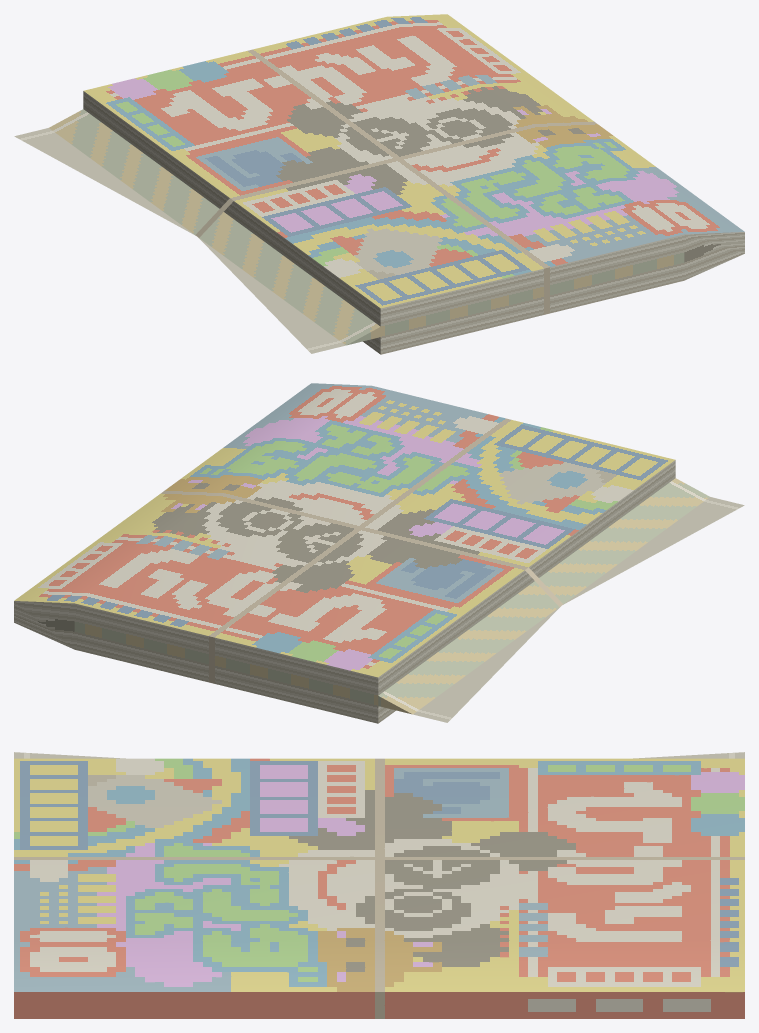
Rendered from 04ba_Magazine.glb.
3 renders of one model, top to bottom at view 1: azimuth 30°, elevation 25°; view 2: azimuth 150°, elevation 25°; view 3: azimuth 270°, elevation 25°, orthographic. The views are drawn at different scales.
Visible parts, largest first — view 1: part_0; view 2: part_0; view 3: part_0.
Boxes of the visible parts, x1,y1,x2,y2 form: part_0: (14, 14, 744, 354); part_0: (14, 383, 744, 723); part_0: (14, 752, 744, 1018).
Bounding box in the file's own units: 0.25 × 0.0255 × 0.297.
Materials: 1 (1 with a texture image).
